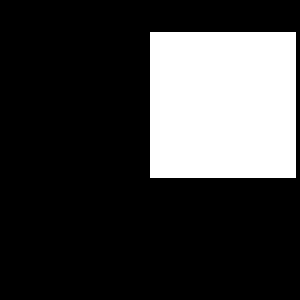circle: (150, 32, 296, 178), (182, 58, 272, 148)
